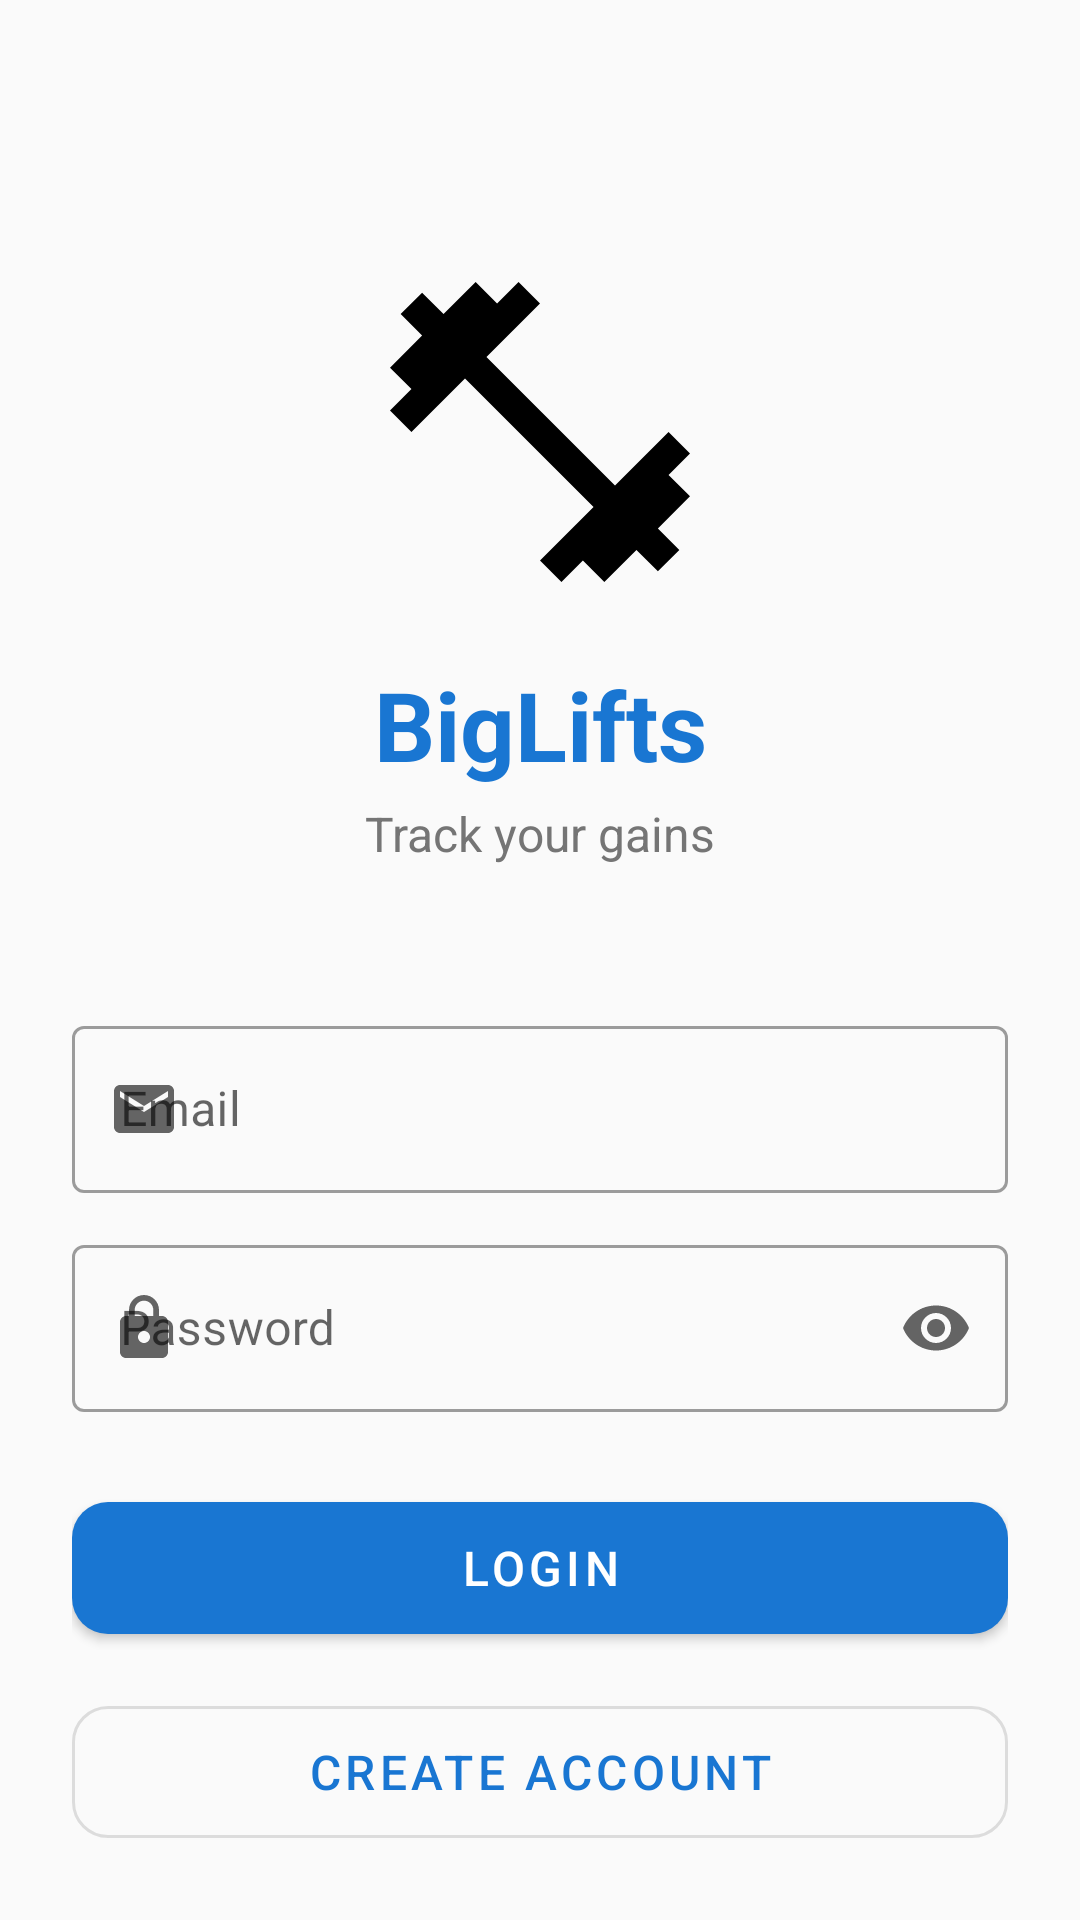

Icon bounding boxes for this 1080 x 1920 phone screenshot, format [x1,y1,x2,y2]:
fitness: [390,282,690,582]
